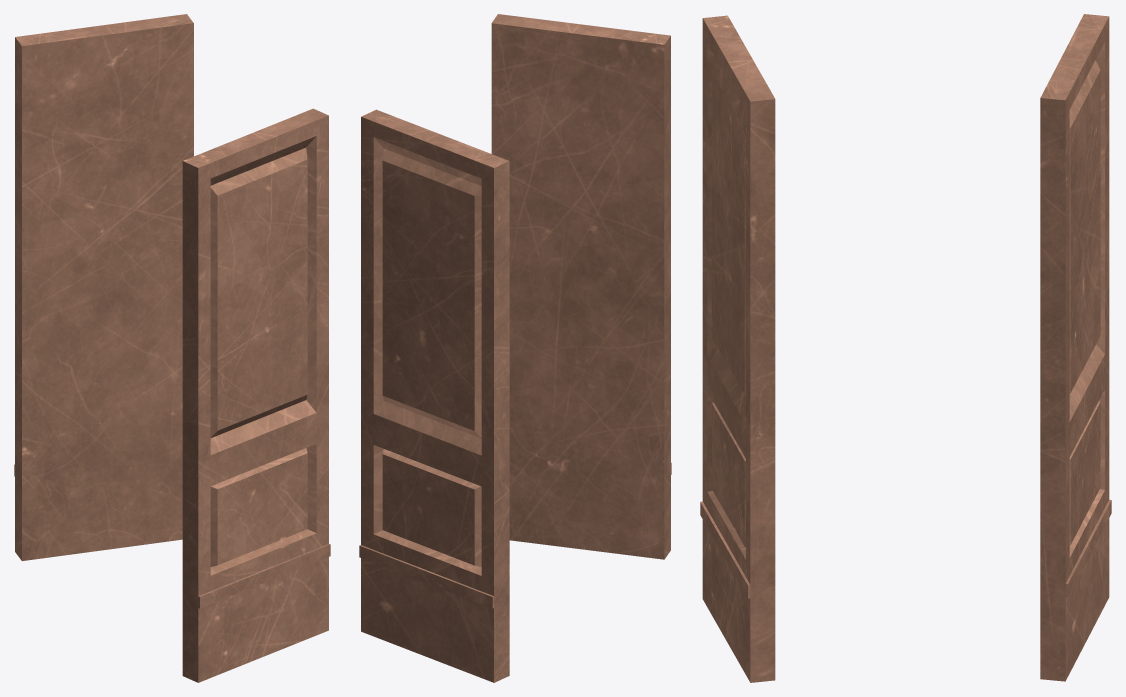
Rendered from Escenario 5 puertas.fbx.
The picture shows the model from 3 angles, left to right: view 1: azimuth 30°, elevation 25°; view 2: azimuth 150°, elevation 25°; view 3: azimuth 270°, elevation 25°; orthographic projection. The views are drawn at different scales.
Visible parts, largest first — view 1: 23.002, 23.001; view 2: 23.001, 23.002; view 3: 23.001, 23.002.
Boxes of the visible parts, x1=… form: 23.002: x1=14, y1=14, x2=193, y2=560; 23.001: x1=182, y1=108, x2=330, y2=682; 23.001: x1=491, y1=14, x2=671, y2=559; 23.002: x1=359, y1=109, x2=509, y2=682; 23.001: x1=700, y1=15, x2=775, y2=682; 23.002: x1=1040, y1=14, x2=1111, y2=681.
Bounding box in the file's own units: 605 × 1865 × 1196.
1 material, 1 textured.
